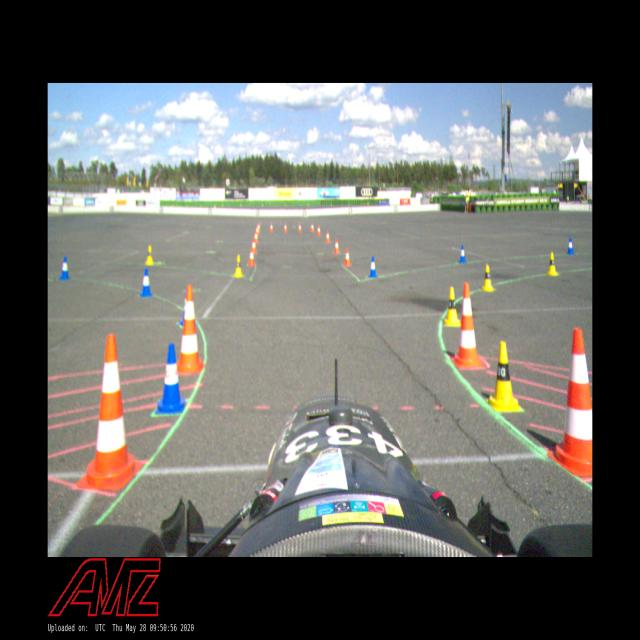blue_cone: (155, 344, 185, 416), (139, 268, 153, 297), (58, 254, 69, 279), (368, 254, 377, 278), (459, 242, 468, 264), (567, 238, 575, 254)
large_orange_cone: (77, 332, 143, 488), (550, 329, 592, 474), (172, 285, 205, 376), (450, 280, 485, 364)
orange_cone: (248, 247, 255, 268), (344, 244, 350, 267), (334, 238, 340, 253), (325, 228, 330, 244), (297, 221, 302, 233), (269, 222, 274, 232), (283, 221, 287, 233), (310, 220, 314, 232), (317, 224, 321, 236)
yellow_cone: (489, 338, 521, 411), (444, 284, 460, 328), (482, 262, 494, 291), (233, 252, 243, 278), (548, 251, 558, 276), (145, 243, 154, 266)
